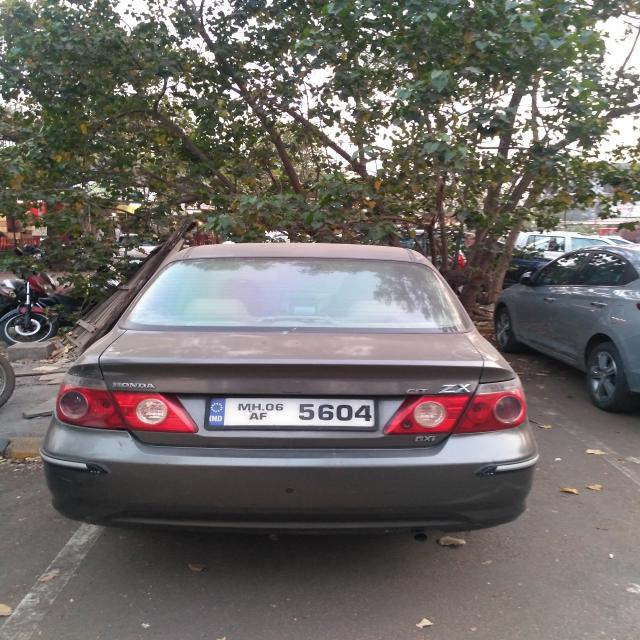Number-Plate: (210, 396, 378, 428)
